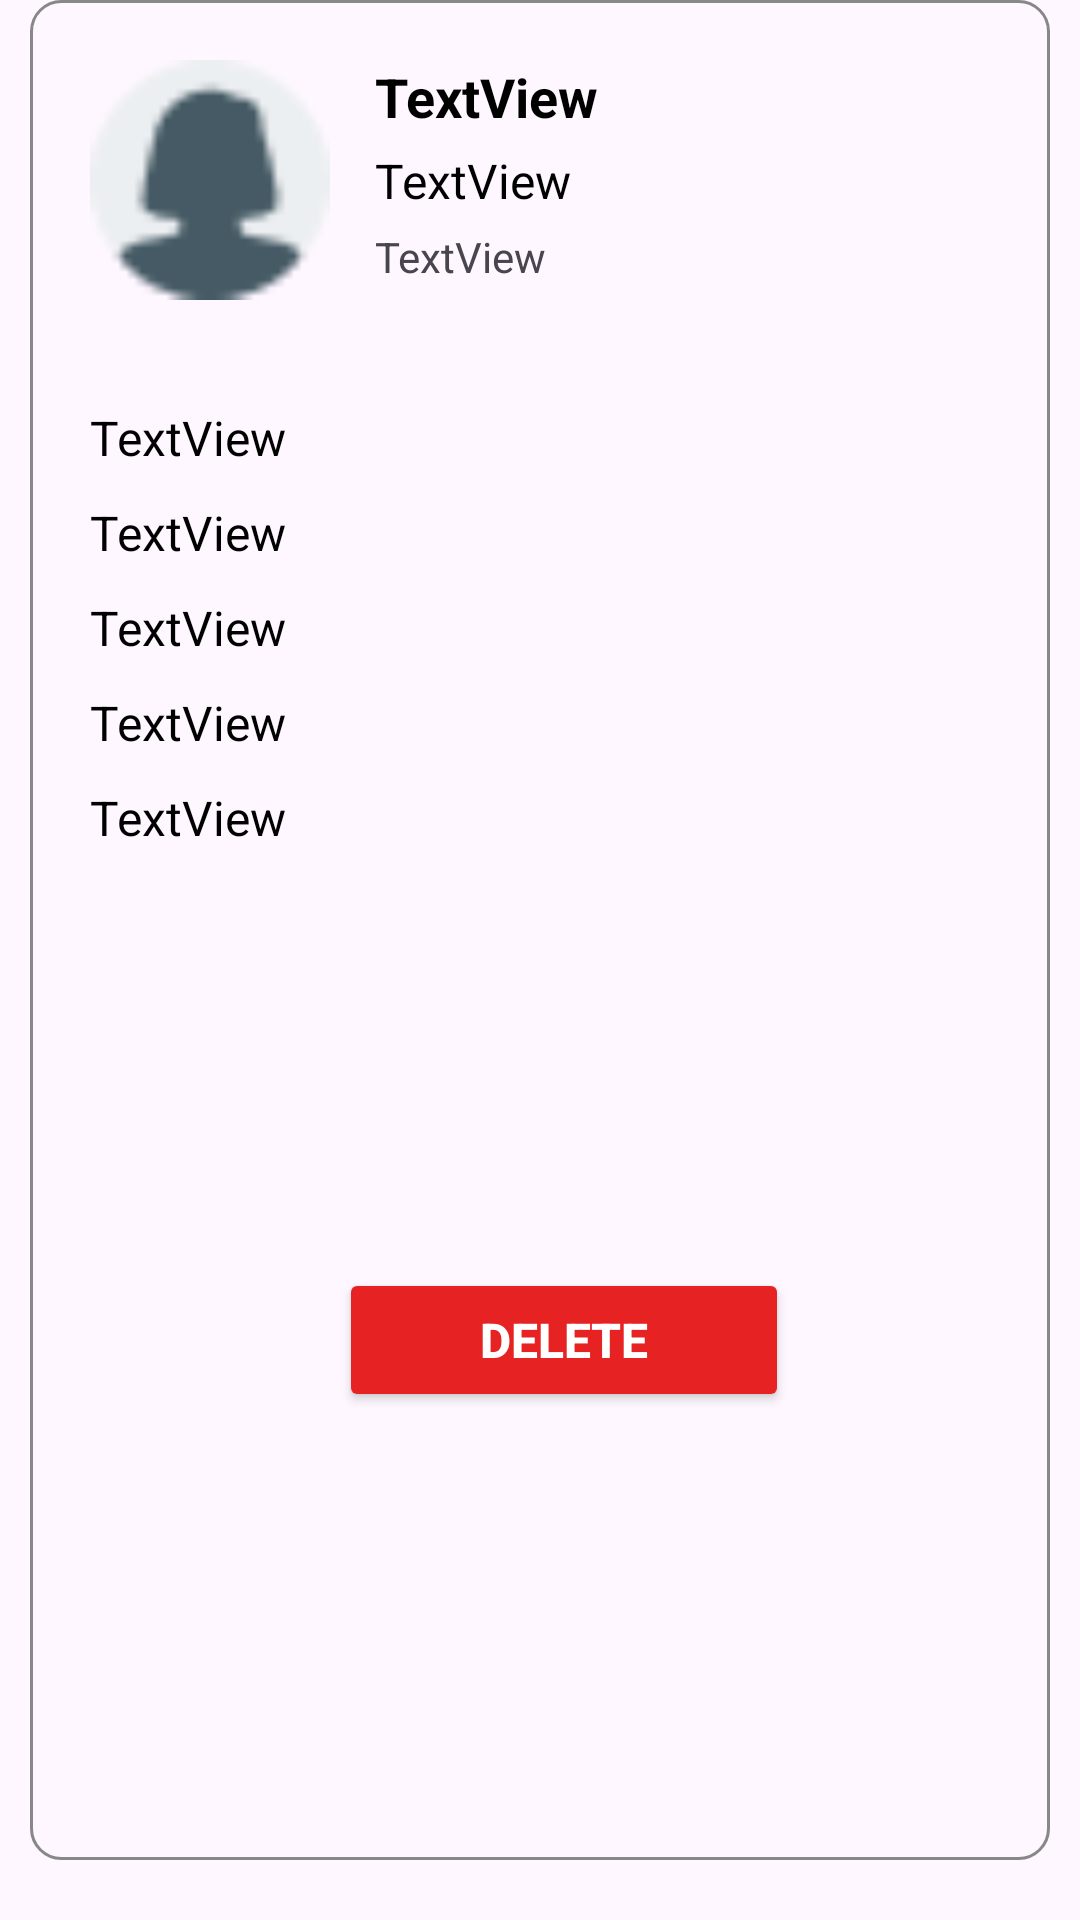

Where to tap for icons on this 1080*1920 app screen, as (x=x, y=y):
user: (x=209, y=190)
